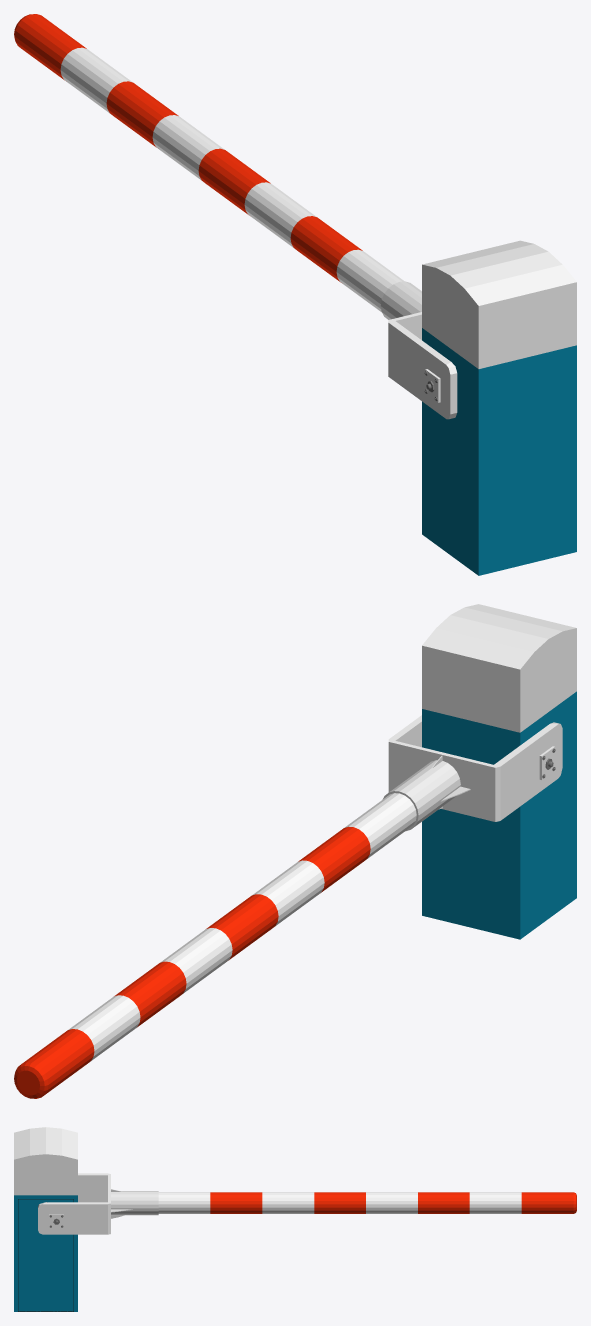
Rendered from barriere_levante.obj.
3 renders of one model, top to bottom at view 1: azimuth 30°, elevation 25°; view 2: azimuth 150°, elevation 25°; view 3: azimuth 270°, elevation 25°, orthographic. The views are drawn at different scales.
Visible parts, largest first — view 1: base, move; view 2: base, move; view 3: move, base.
Boxes of the visible parts, box(x1,y1,x2,y2) form: base: box(422, 240, 576, 575); move: box(14, 14, 457, 419); base: box(422, 604, 576, 939); move: box(14, 715, 562, 1098); move: box(38, 1173, 576, 1234); base: box(14, 1127, 77, 1311).
Bounding box in the file's own units: 0.5816 × 1.25 × 4.05.
Materials: 1 (1 with a texture image).
